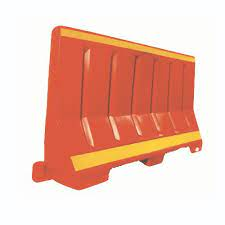barrier: (34, 25, 204, 187)
